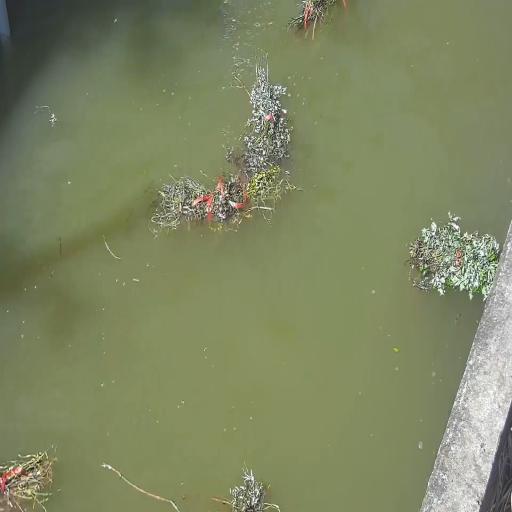twig: (152, 155, 306, 243), (407, 211, 500, 299), (238, 49, 292, 175), (0, 445, 58, 511), (212, 461, 279, 512), (286, 2, 339, 42)
